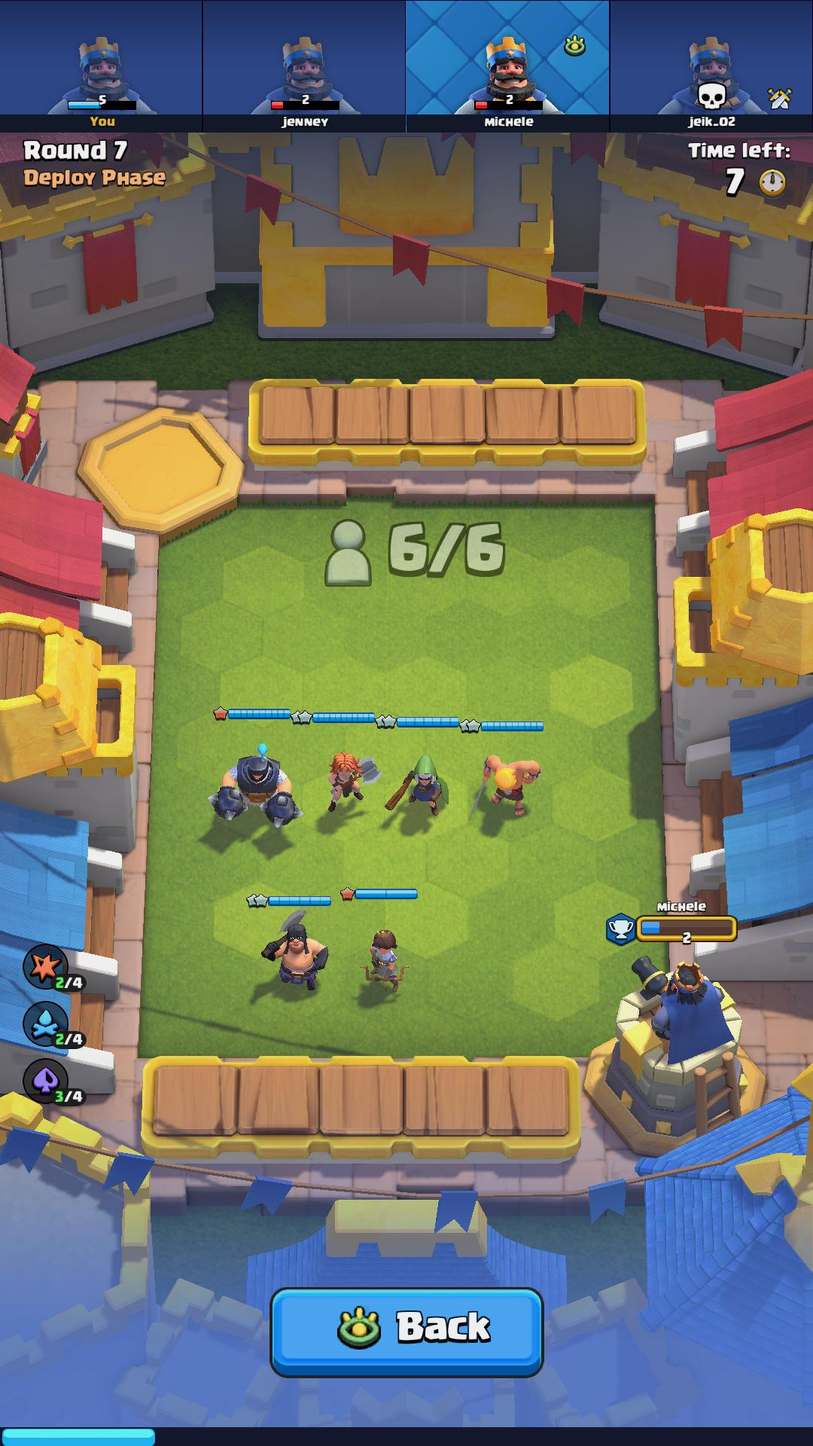bandit: (380, 744, 455, 823)
barbarian: (464, 744, 555, 818)
executioner: (261, 904, 339, 994)
mega: (207, 741, 304, 833)
princess: (358, 920, 413, 998)
valkyrie: (319, 746, 379, 815)
